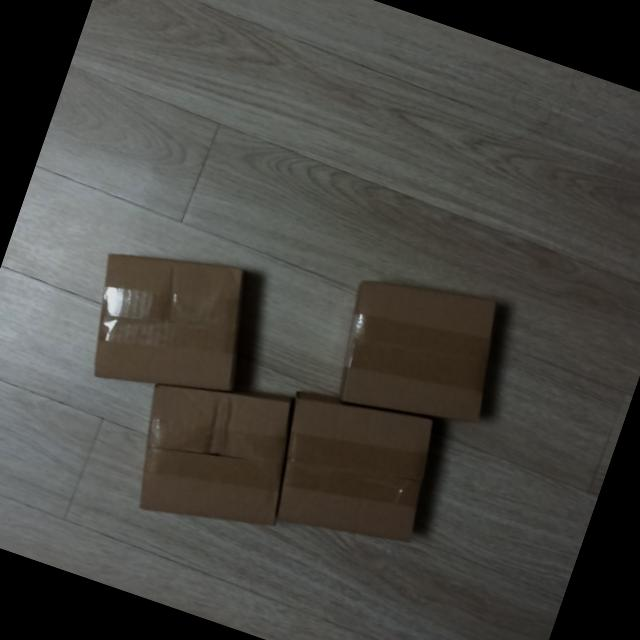box: (61, 222, 278, 426), (107, 352, 316, 561), (245, 371, 458, 568), (317, 252, 522, 450)
